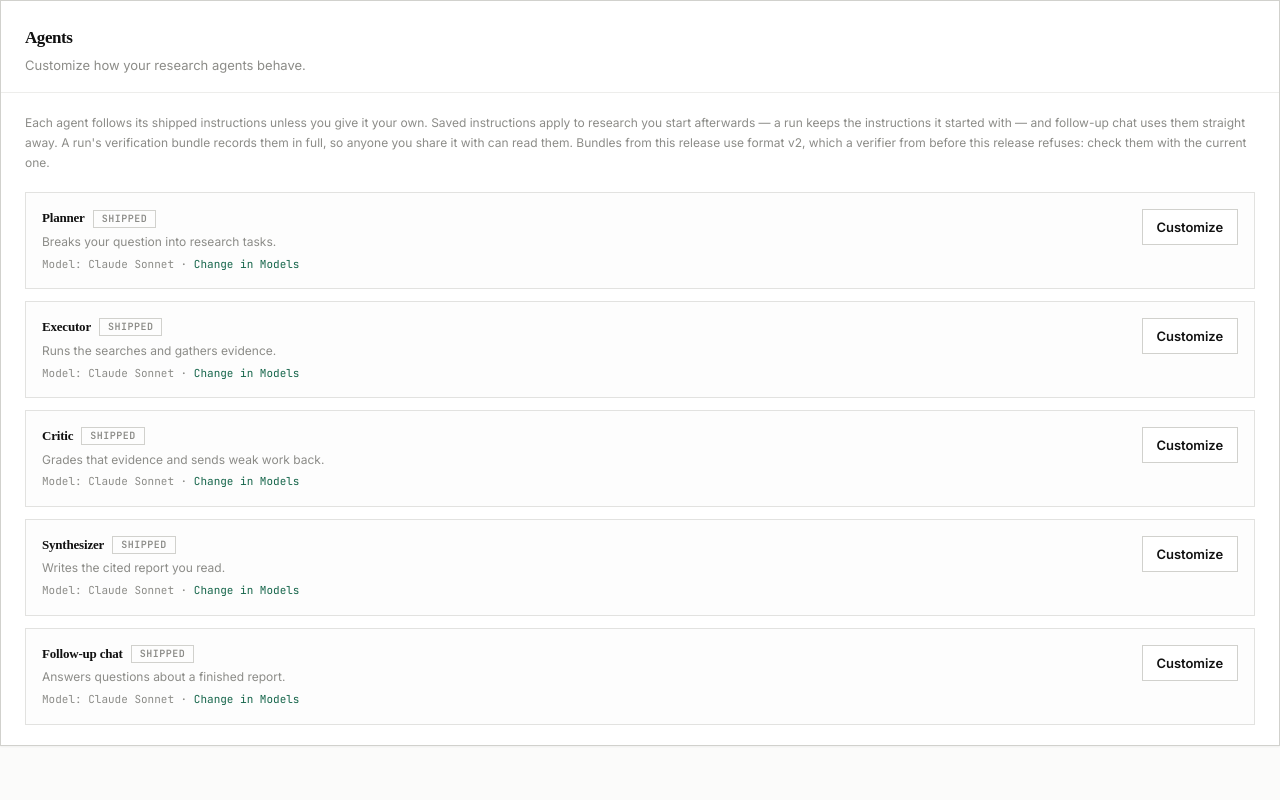
editing › keeps the API's validation: a refusal shows inline and the editor stays open
This screenshot has width=1280, height=800.
Click the button "Customize" in the row of "Critic".
click(1190, 445)  # box x1=1142 y1=427 x2=1238 y2=463
(page scrolled)
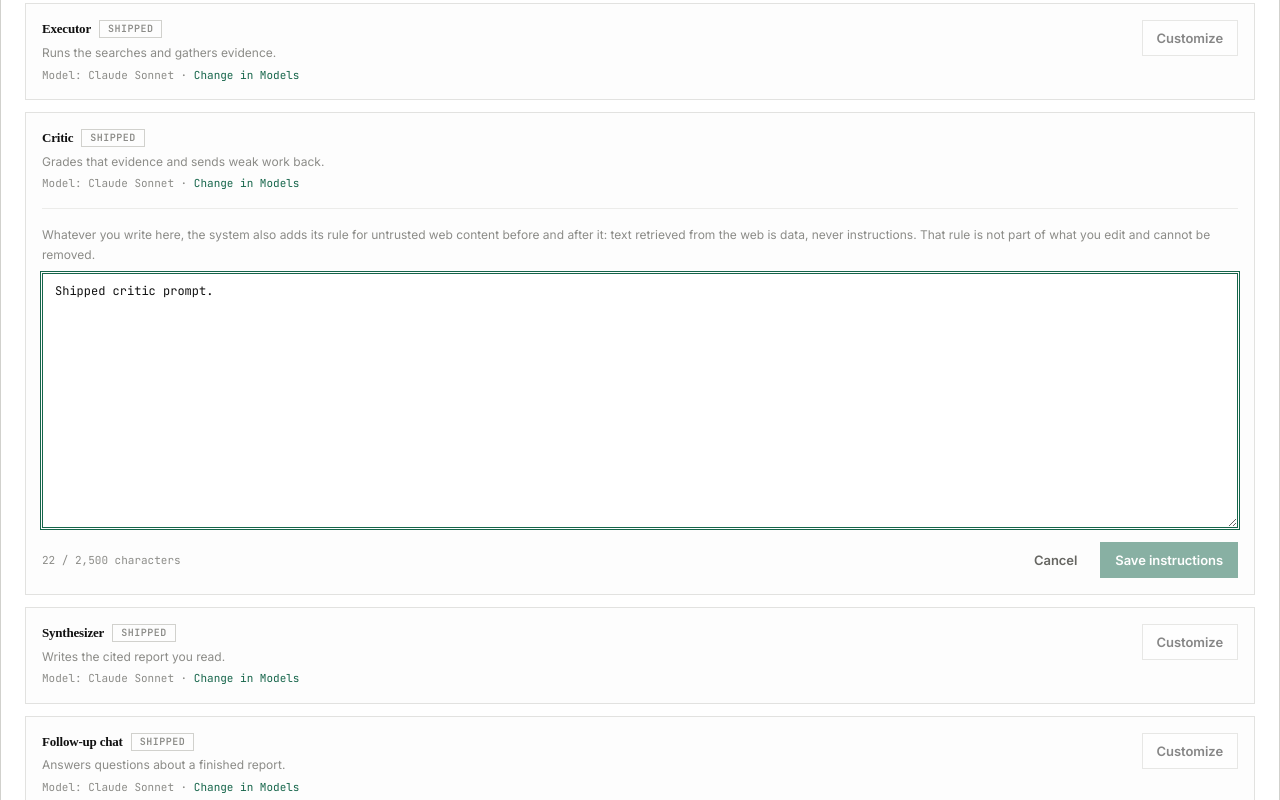
Type " more" into the text box.
click(640, 400); type(" more")  # box x1=42 y1=272 x2=1238 y2=528
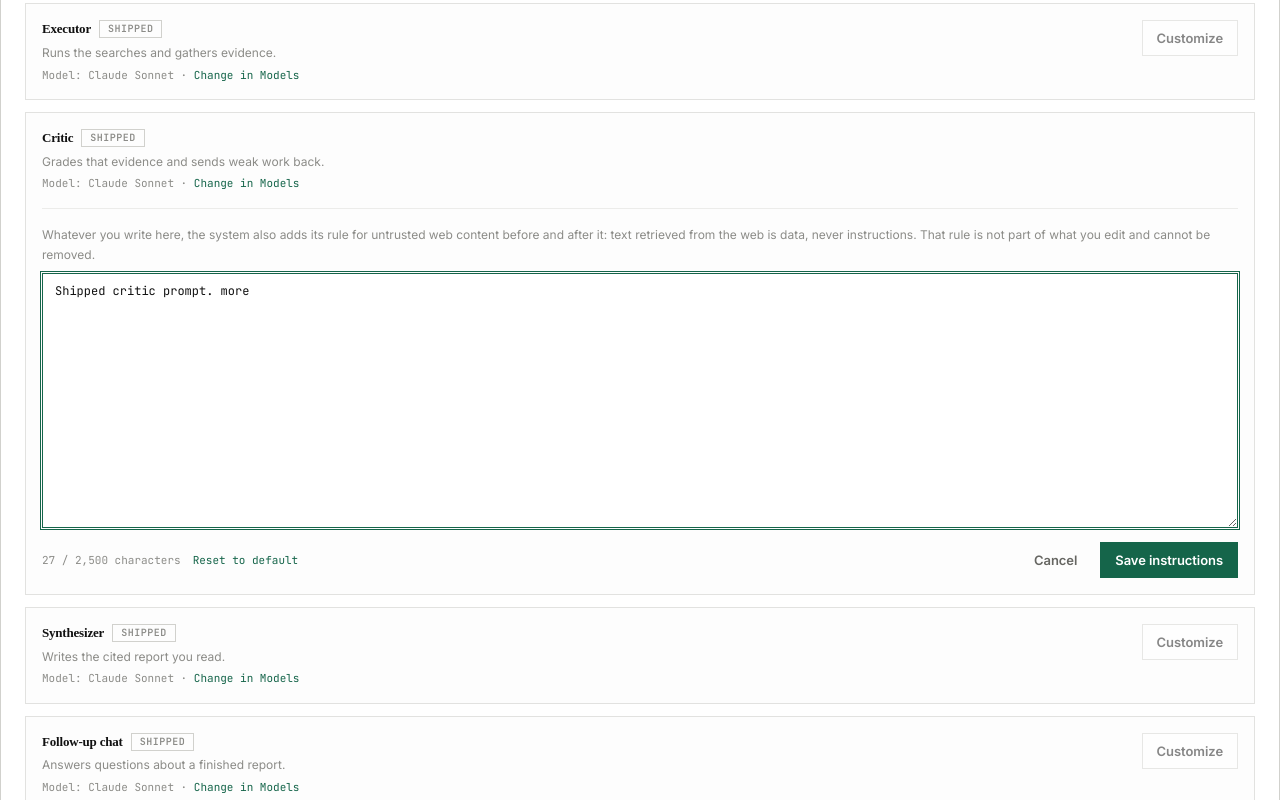
Click the button "Save instructions".
click(1169, 560)  # box x1=1100 y1=542 x2=1238 y2=578
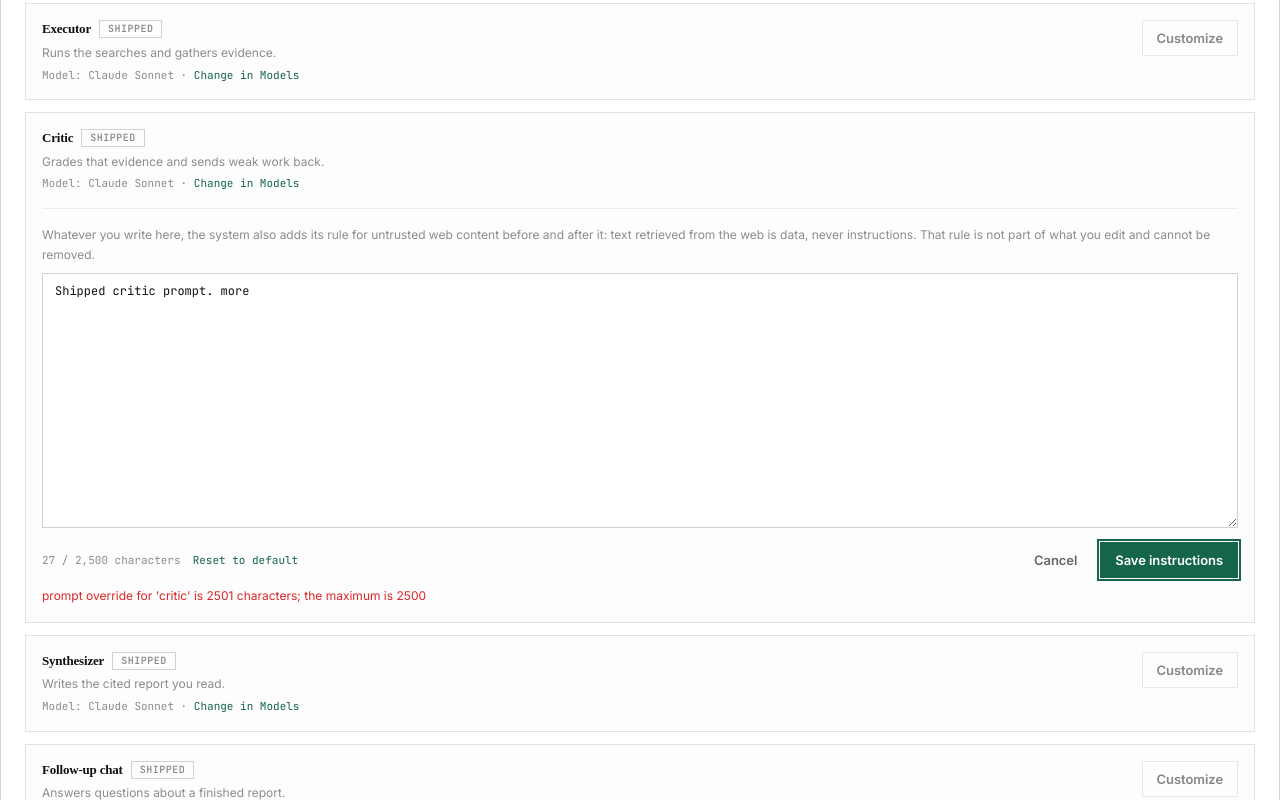
Expected: the text box is shown, x1=42 y1=272 x2=1238 y2=528
Expected: the message reads "prompt override for 'critic' is 2501 characters; the maximum is 2500", x1=42 y1=588 x2=426 y2=603
